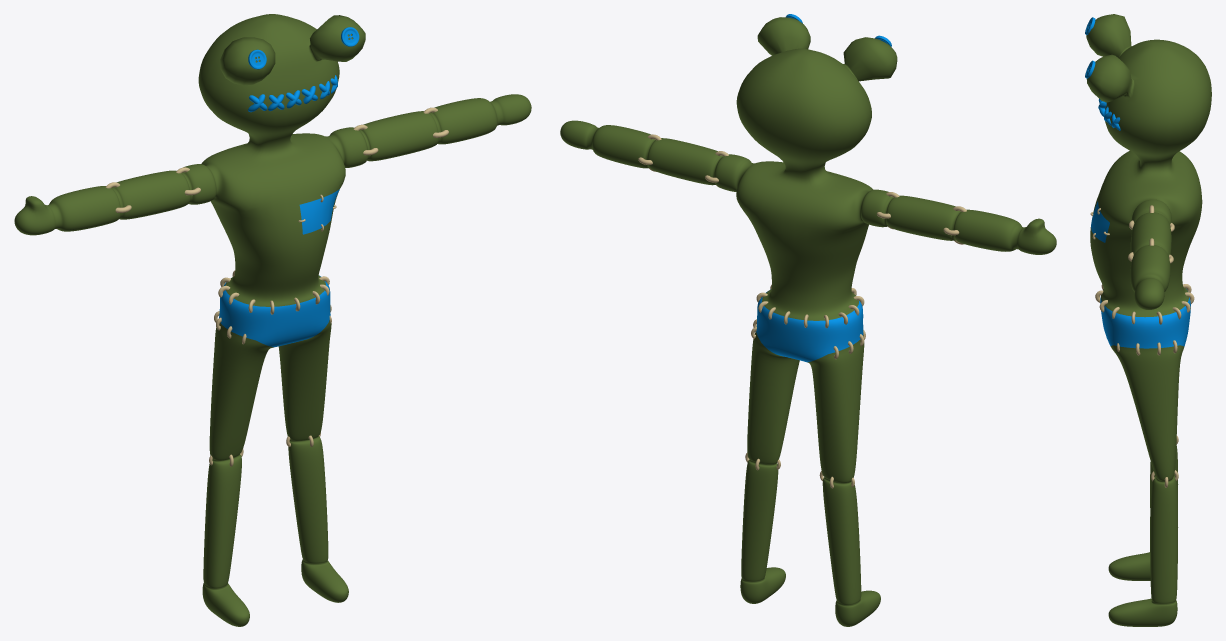
The model's file is Sapo_fbx.fbx.
The picture shows the model from 3 angles, left to right: view 1: azimuth 30°, elevation 25°; view 2: azimuth 150°, elevation 25°; view 3: azimuth 270°, elevation 25°; orthographic projection. The views are drawn at different scales.
Visible parts, largest first — view 1: Corpo1; view 2: Corpo1; view 3: Corpo1.
Boxes of the visible parts, x1=… form: Corpo1: x1=14, y1=14, x2=531, y2=626; Corpo1: x1=560, y1=17, x2=1056, y2=626; Corpo1: x1=1086, y1=14, x2=1211, y2=626.
Bounding box in the file's own units: 3.79 × 4.16 × 0.8474.
